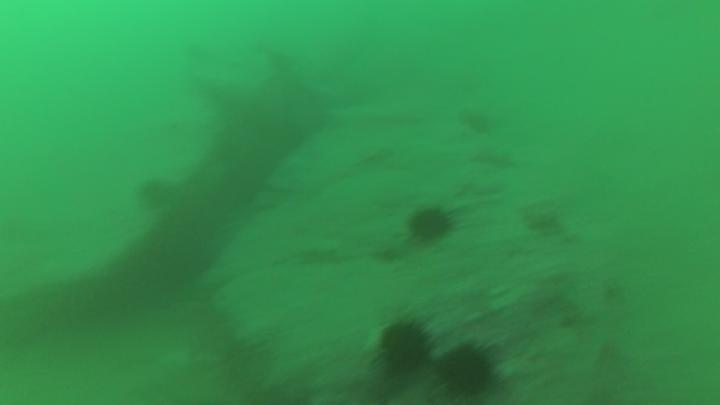echinus: (425, 336, 508, 401), (374, 313, 434, 382), (401, 202, 463, 252)
